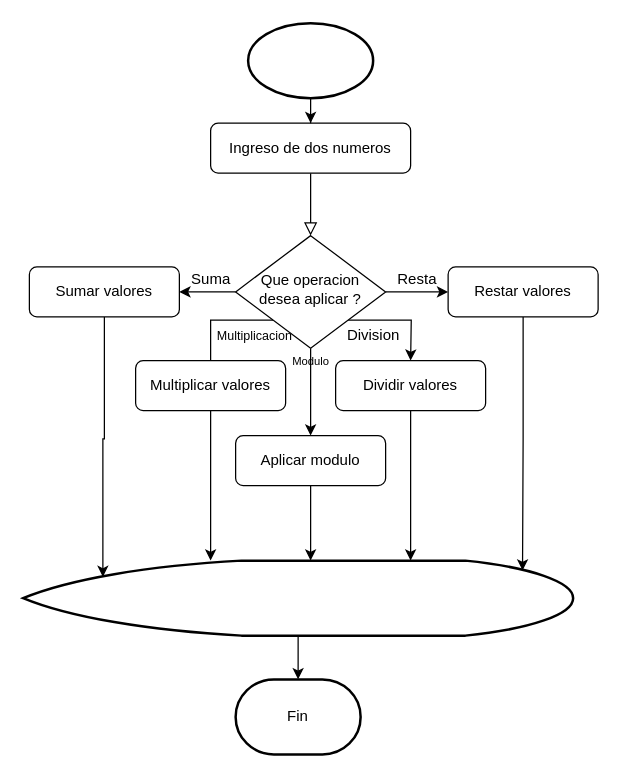
The diagram is 620 pixels wide and 776 high, and some of its shapes have lost their labels. The shapes that lost their labels are listed below. From the top down, each one's centre as x and y in pixels, then its label:
point 310,60: Inicio
point 297,597: Mostrar resultado
